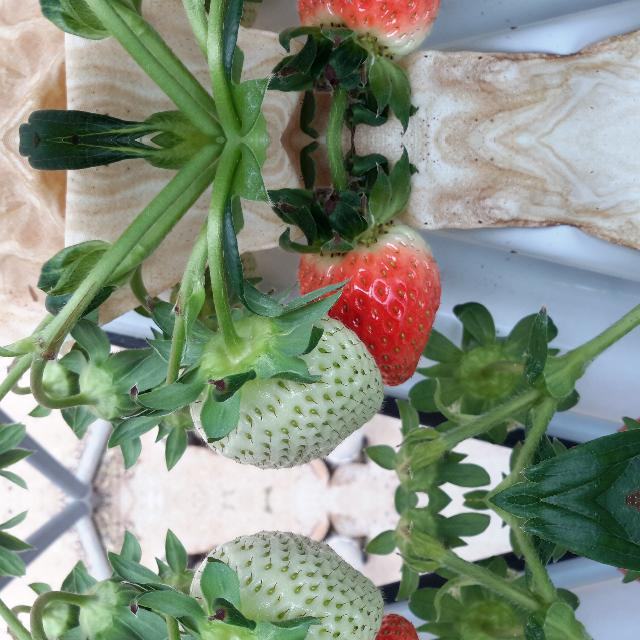Health_100: (298, 218, 442, 388), (297, 0, 442, 62)
Health_25: (188, 313, 384, 469), (188, 531, 383, 640)
